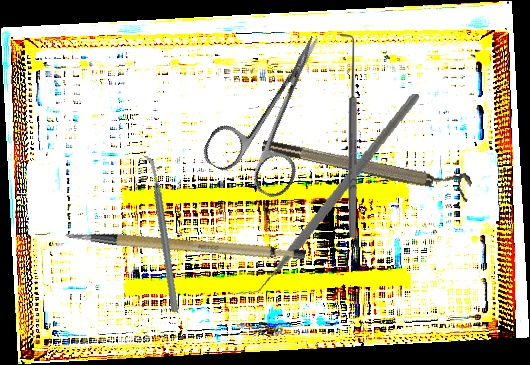Chopper: (234, 75, 420, 313), (104, 154, 217, 314)
Fixation Ring: (260, 127, 474, 203)
Hook Surgical: (340, 33, 359, 238)
Iris Scissors: (198, 16, 359, 204)
Scalpel Handle: (64, 193, 308, 292)
